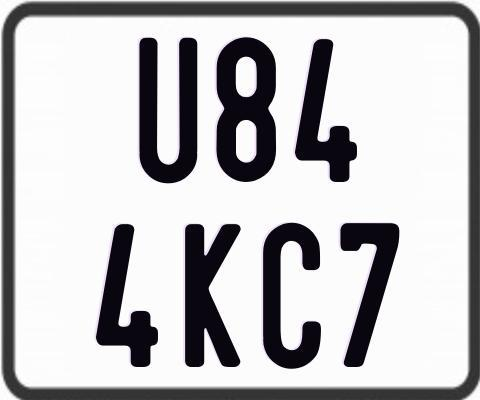4: (95, 222, 161, 367), (295, 36, 359, 182)
7: (337, 223, 399, 373)
8: (215, 35, 279, 182)
C: (263, 223, 326, 375)
K: (183, 221, 243, 368)
U: (139, 38, 200, 189)
